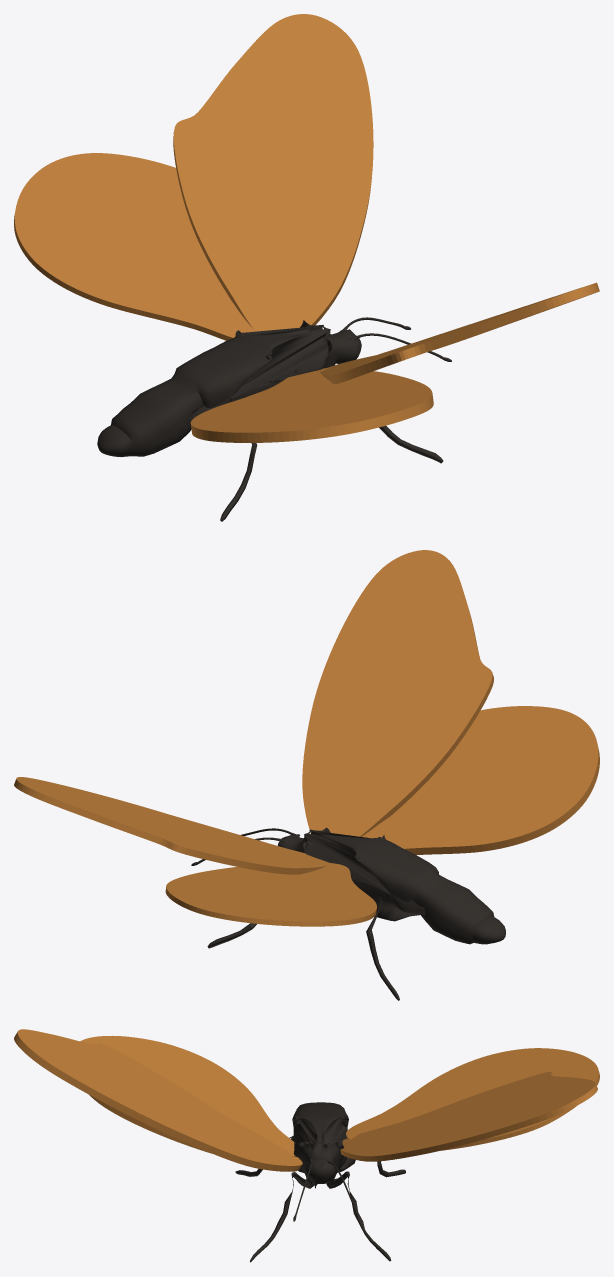
The model's file is butterfly.glb.
3 renders of one model, top to bottom at view 1: azimuth 30°, elevation 25°; view 2: azimuth 150°, elevation 25°; view 3: azimuth 270°, elevation 25°, orthographic. The views are drawn at different scales.
Visible parts, largest first — view 1: Danaus_plexippus_Antenna_L.005, Danaus_plexippus_Antenna_L.007, Danaus_plexippus_Antenna_L.002; view 2: Danaus_plexippus_Antenna_L.007, Danaus_plexippus_Antenna_L.005, Danaus_plexippus_Antenna_L.002; view 3: Danaus_plexippus_Antenna_L.007, Danaus_plexippus_Antenna_L.005, Danaus_plexippus_Antenna_L.002.
Boxes of the visible parts, box(x1,y1,x2,y2) form: Danaus_plexippus_Antenna_L.005: box(14, 14, 373, 340); Danaus_plexippus_Antenna_L.007: box(190, 282, 599, 442); Danaus_plexippus_Antenna_L.002: box(97, 317, 451, 521); Danaus_plexippus_Antenna_L.007: box(302, 550, 599, 855); Danaus_plexippus_Antenna_L.005: box(14, 777, 376, 926); Danaus_plexippus_Antenna_L.002: box(191, 827, 505, 1000); Danaus_plexippus_Antenna_L.007: box(14, 1029, 302, 1171); Danaus_plexippus_Antenna_L.005: box(340, 1048, 599, 1161); Danaus_plexippus_Antenna_L.002: box(235, 1102, 405, 1262).
Bounding box in the file's own units: 0.0477 × 0.0324 × 0.0775.
Materials: 2 (2 with a texture image).
